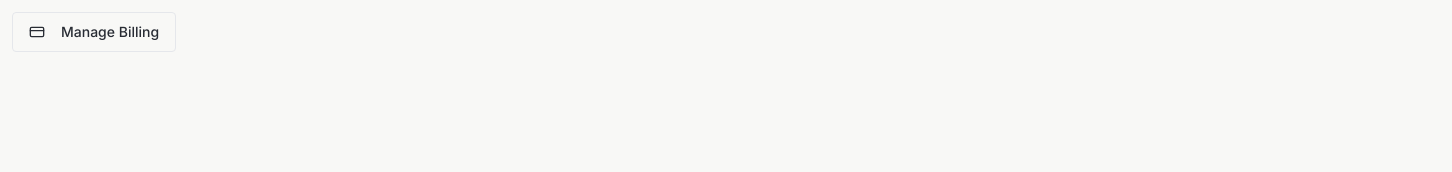
Test case: BillingPortal › should handle API errors
Step 1. Click the button "Manage Billing" → (94, 32), box [12,12,176,52]
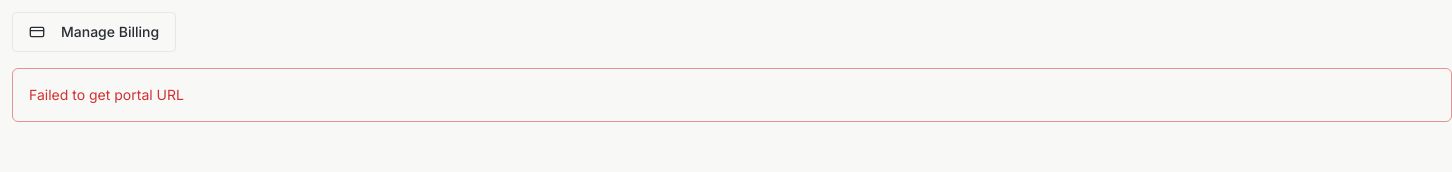
Result: the text "Failed to get portal URL" is shown at [29,86,184,103]
